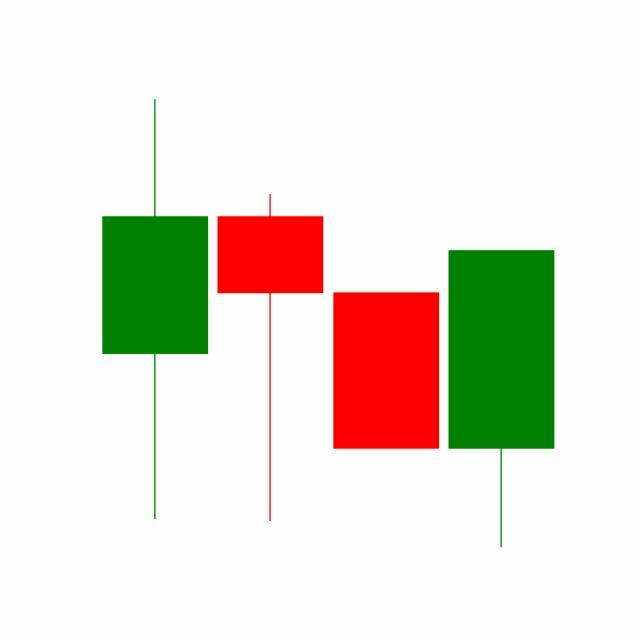Marubozu: (329, 291, 445, 450)
